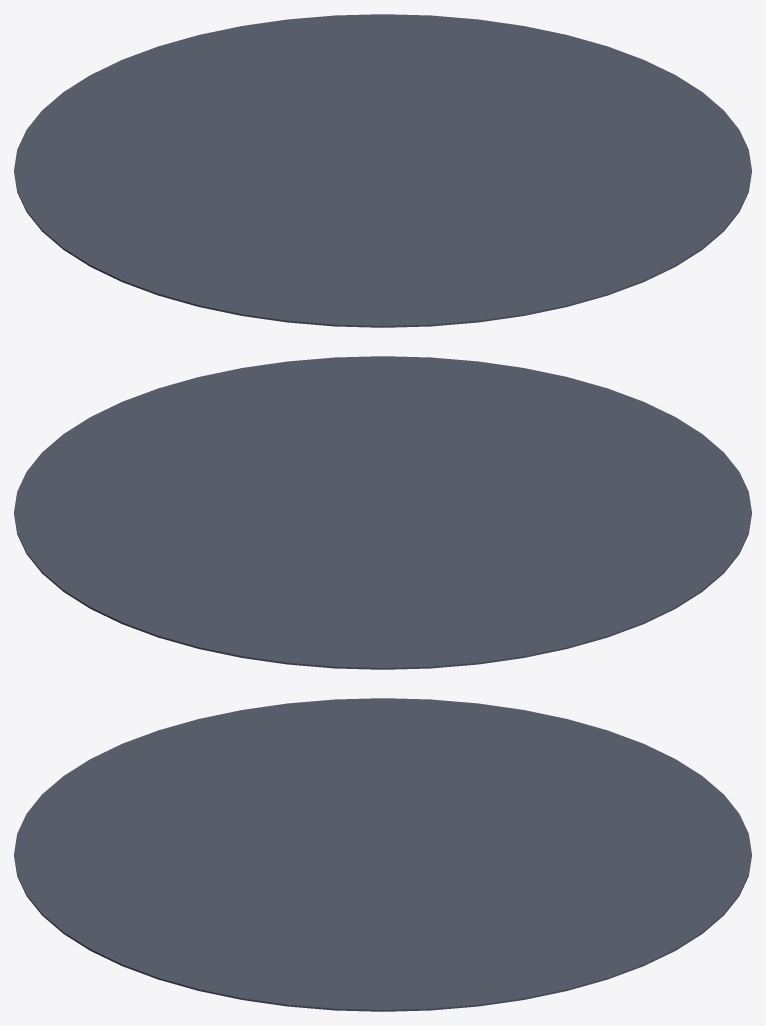
Rendered from FLOOR.glb.
3 renders of one model, top to bottom at view 1: azimuth 30°, elevation 25°; view 2: azimuth 150°, elevation 25°; view 3: azimuth 270°, elevation 25°, orthographic.
Parts seen in each view (by area): view 1: FLOOR; view 2: FLOOR; view 3: FLOOR.
Boxes of the visible parts, left/top/right/bottom form: FLOOR: left=14, top=14, right=751, bottom=327; FLOOR: left=14, top=356, right=751, bottom=669; FLOOR: left=14, top=698, right=751, bottom=1011.
Size of the model in its own units: 75 by 0.2 by 75.
